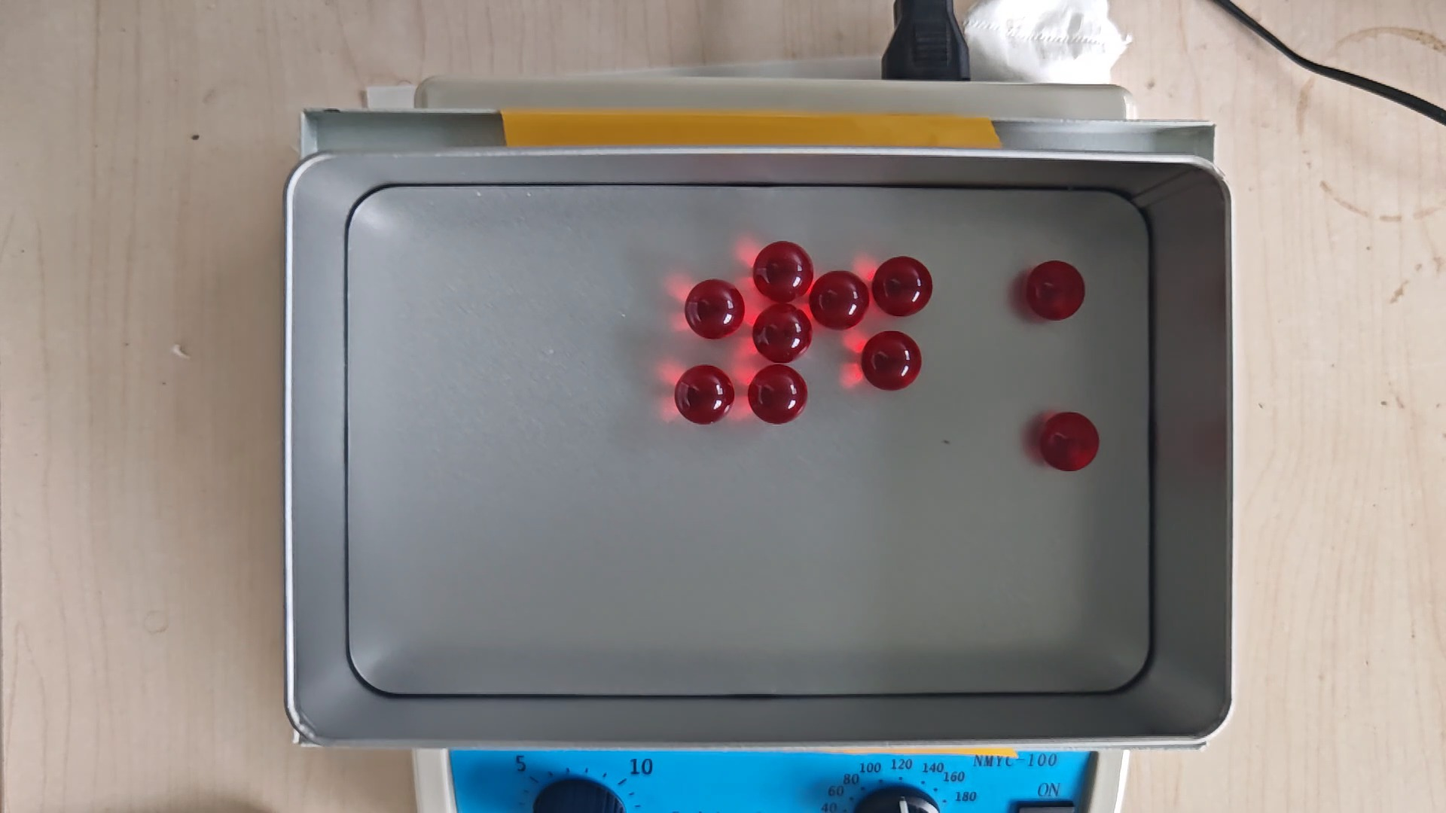ball: (1039, 411, 1100, 473), (1026, 259, 1085, 322), (873, 256, 933, 317), (748, 365, 808, 426), (675, 364, 735, 425), (685, 278, 744, 340), (862, 330, 921, 392), (753, 303, 811, 364), (754, 240, 812, 301), (811, 271, 868, 329)
container: (346, 185, 1151, 696)
